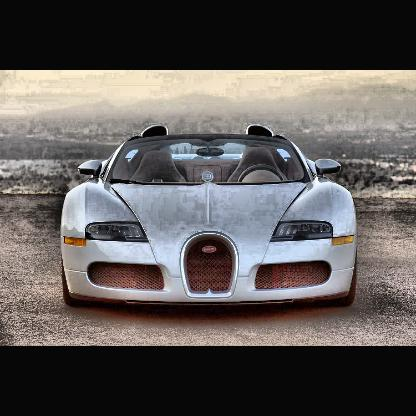Bugatti Veyron 16-4 Convertible 2009: (55, 125, 370, 306)
